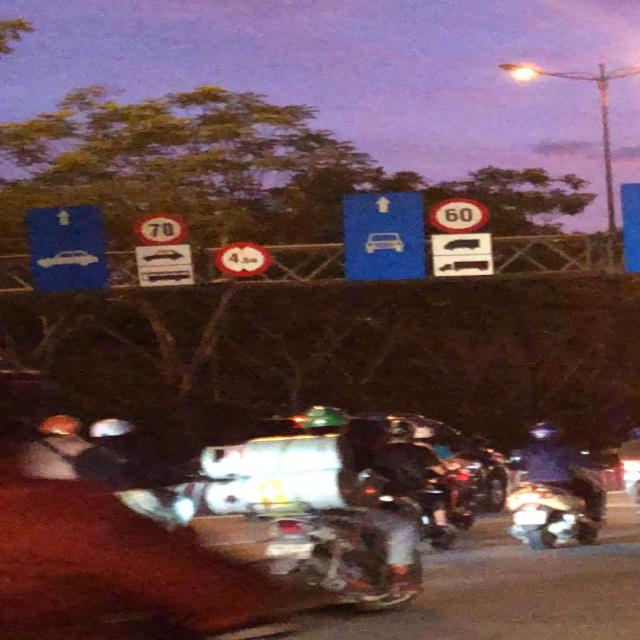Bien bao han che chieu cao: (210, 240, 277, 281)
Bien bao toc do toi da cho phep: (126, 209, 199, 250), (424, 196, 496, 236)
